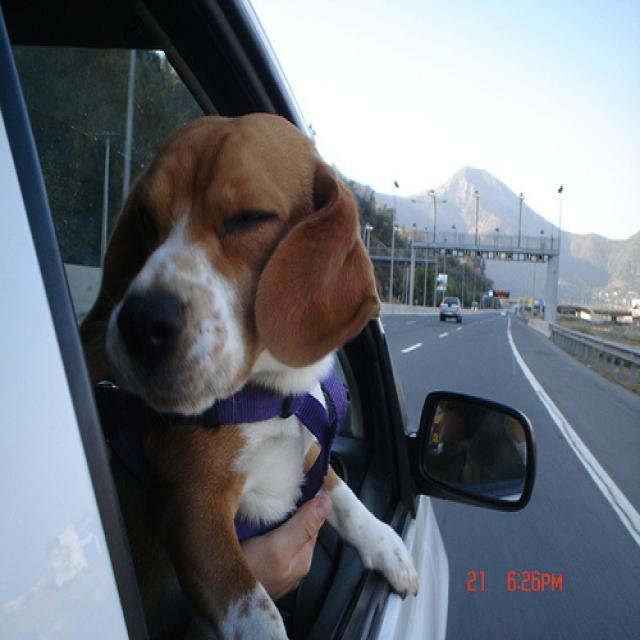dog-beagle: (67, 104, 389, 637)
